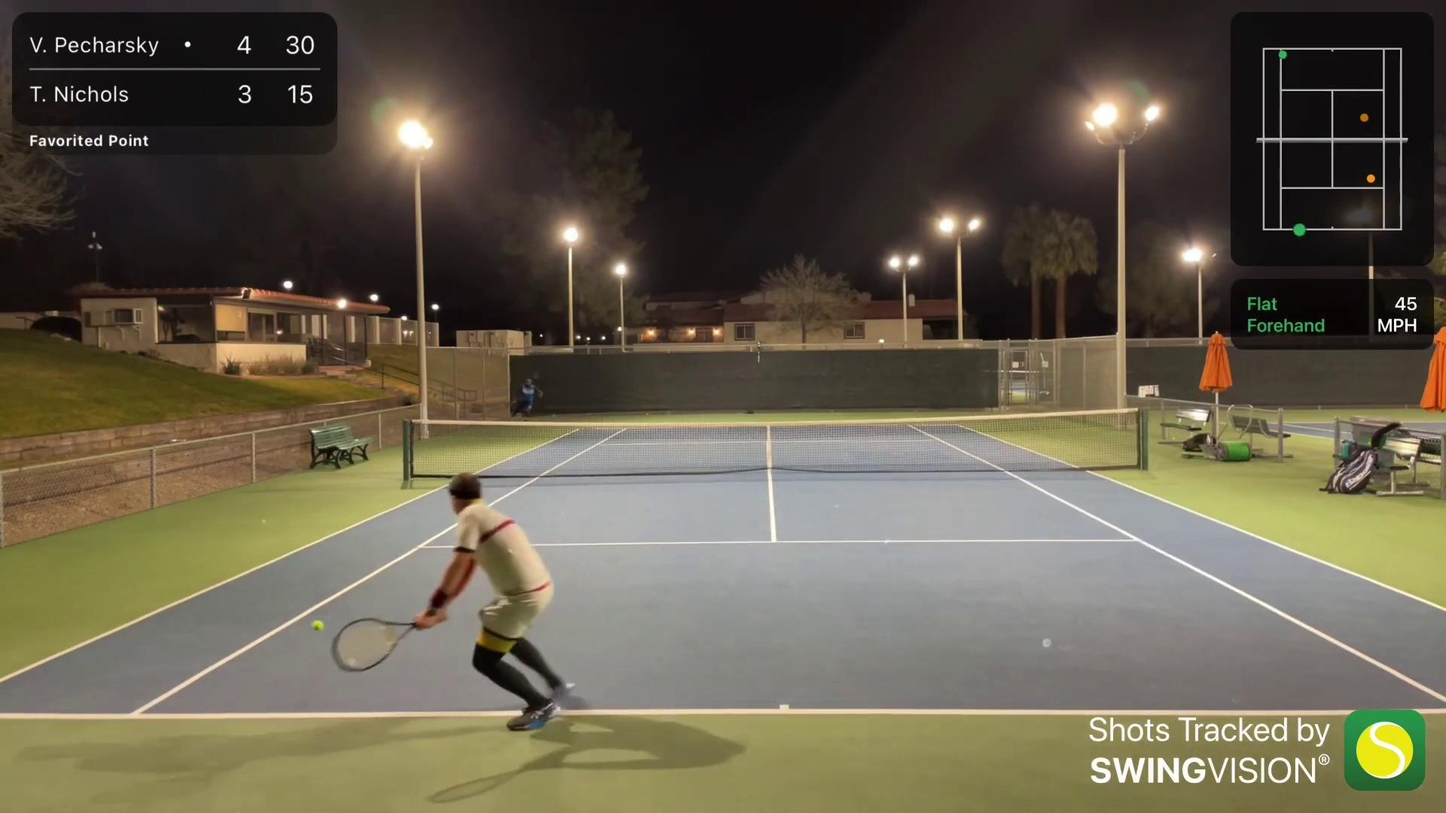ball: (305, 617, 329, 633)
